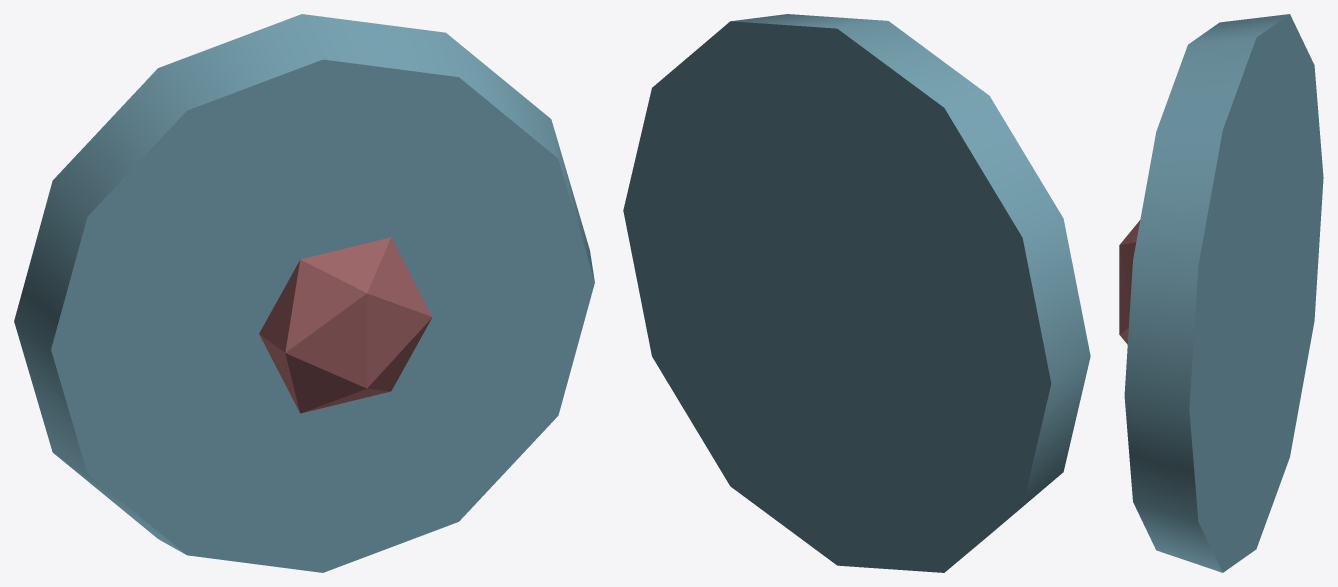
The model's file is off_04_frost_mirror.glb.
The picture shows the model from 3 angles, left to right: view 1: azimuth 30°, elevation 25°; view 2: azimuth 150°, elevation 25°; view 3: azimuth 270°, elevation 25°; orthographic projection. The views are drawn at different scales.
Visible parts, largest first — view 1: shield, shield_boss; view 2: shield; view 3: shield, shield_boss.
Part boxes in pixels (x1,y1,x2,y2): shield: (14,14,594,572); shield_boss: (259,237,432,413); shield: (623,14,1090,572); shield: (1124,14,1323,572); shield_boss: (1119,220,1140,344).
Size of the model in its own units: 0.7013 by 0.72 by 0.2603.
